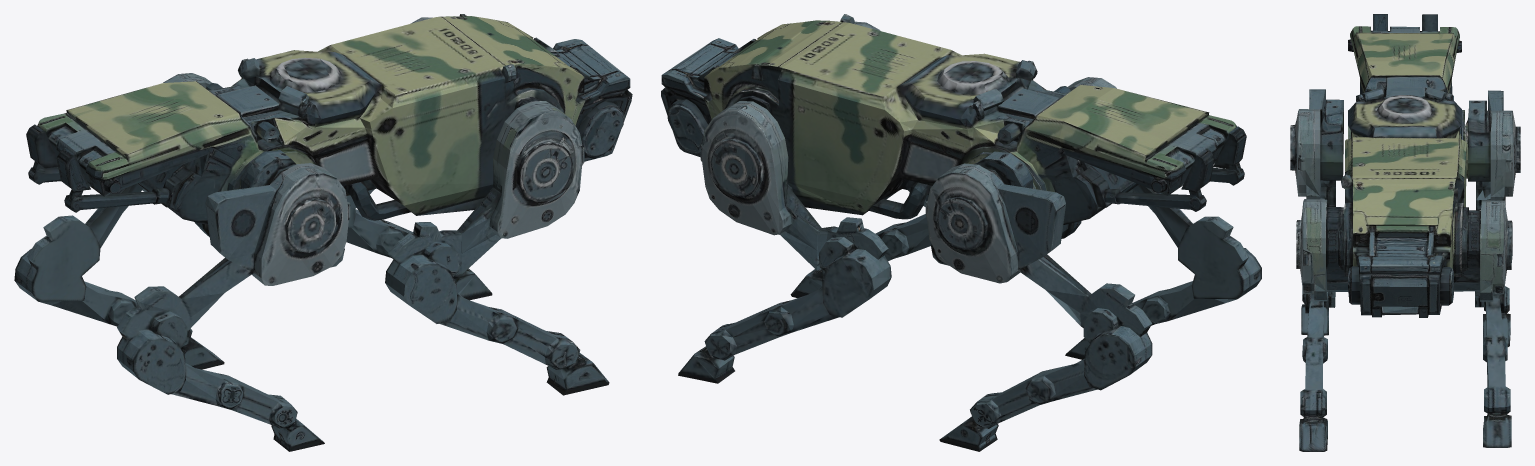
Rendered from robot_dog_02.glb.
3 views of the same model, side by side, from view 1: azimuth 30°, elevation 25°; view 2: azimuth 150°, elevation 25°; view 3: azimuth 270°, elevation 25° (orthographic). The views are drawn at different scales.
Parts seen in each view (by area): view 1: body, R_Hind_Hip, R_Fore_Hip, R_Fore_Calf, R_Hind_Calf, L_Hind_Calf, L_Fore_Calf, L_Hind_Hip; view 2: body, L_Hind_Hip, L_Fore_Hip, L_Hind_Calf, L_Fore_Calf, R_Hind_Calf, R_Fore_Calf, R_Hind_Hip; view 3: body, R_Hind_Hip, L_Hind_Hip, R_Fore_Calf, L_Fore_Hip, L_Fore_Calf, R_Fore_Hip, L_Hind_Calf, R_Hind_Calf.
Boxes of the visible parts, left/top/right/bottom form: body: left=26, top=14, right=632, bottom=236; R_Hind_Hip: left=179, top=150, right=350, bottom=330; R_Fore_Hip: left=457, top=101, right=584, bottom=273; R_Fore_Calf: left=385, top=222, right=609, bottom=395; R_Hind_Calf: left=117, top=286, right=324, bottom=451; L_Hind_Calf: left=14, top=215, right=224, bottom=369; L_Fore_Calf: left=346, top=195, right=492, bottom=300; L_Hind_Hip: left=85, top=73, right=211, bottom=248; body: left=661, top=14, right=1246, bottom=238; L_Hind_Hip: left=925, top=151, right=1091, bottom=326; L_Fore_Hip: left=700, top=100, right=838, bottom=270; L_Hind_Calf: left=939, top=283, right=1152, bottom=451; L_Fore_Calf: left=678, top=217, right=891, bottom=383; R_Hind_Calf: left=1065, top=216, right=1261, bottom=359; R_Fore_Calf: left=790, top=195, right=931, bottom=297; R_Hind_Hip: left=1067, top=77, right=1192, bottom=247; body: left=1326, top=14, right=1480, bottom=317; R_Hind_Hip: left=1290, top=89, right=1343, bottom=199; L_Hind_Hip: left=1466, top=90, right=1520, bottom=200; R_Fore_Calf: left=1299, top=292, right=1335, bottom=451; L_Fore_Hip: left=1462, top=200, right=1512, bottom=301; L_Fore_Calf: left=1475, top=289, right=1511, bottom=447; R_Fore_Hip: left=1296, top=199, right=1338, bottom=301; L_Hind_Calf: left=1476, top=181, right=1510, bottom=346; R_Hind_Calf: left=1301, top=180, right=1335, bottom=335.
Bounding box in the file's own units: 0.998 × 0.5566 × 0.4512.
Materials: 4 (4 with a texture image).
